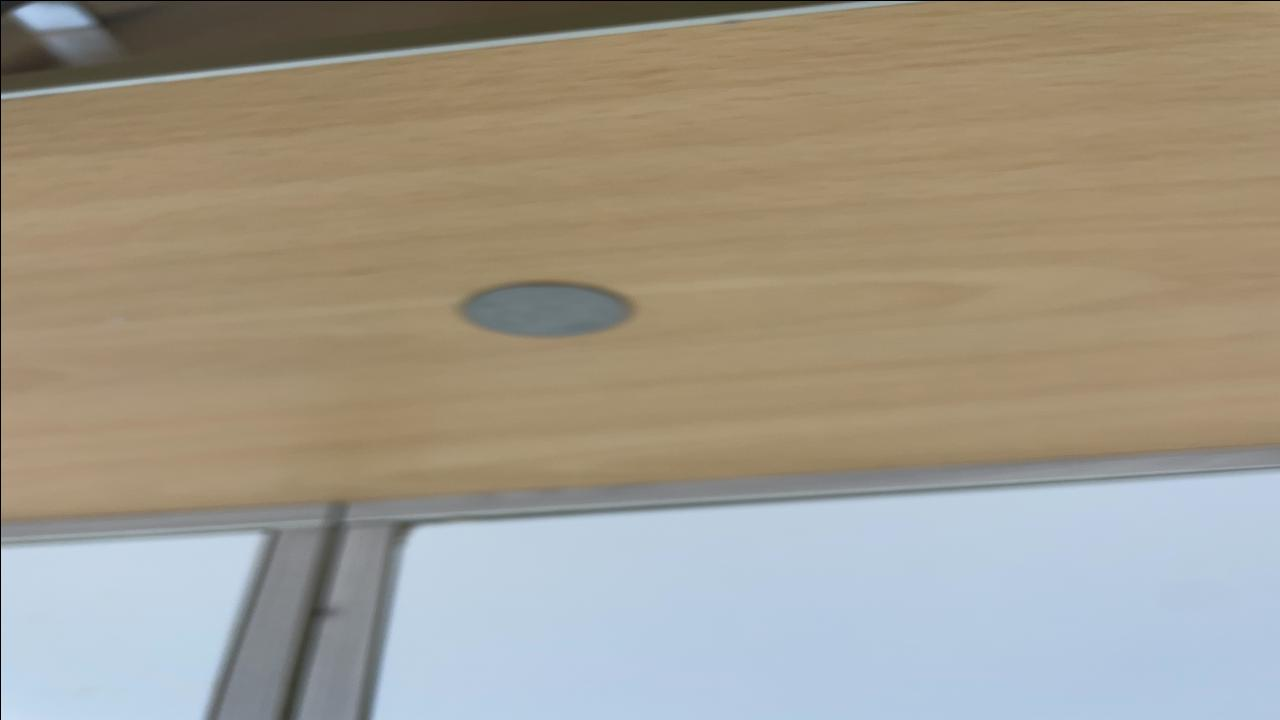coin: (450, 278, 640, 341)
